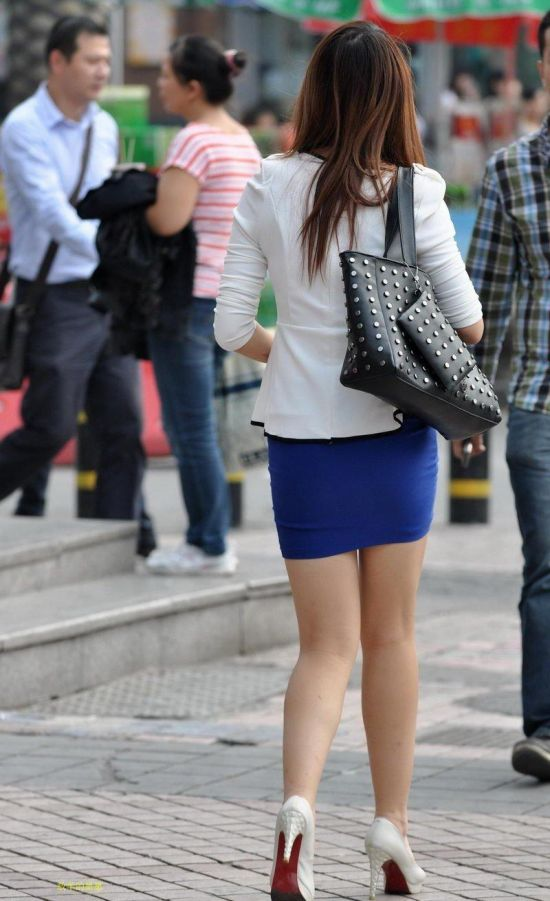people: (216, 22, 484, 901), (141, 23, 274, 575), (4, 16, 141, 520), (471, 12, 550, 782)
